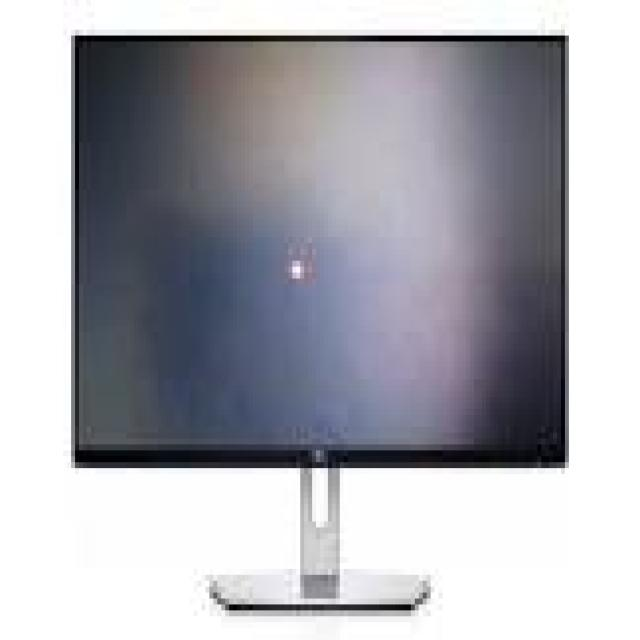dead_pixel: (281, 241, 318, 290)
